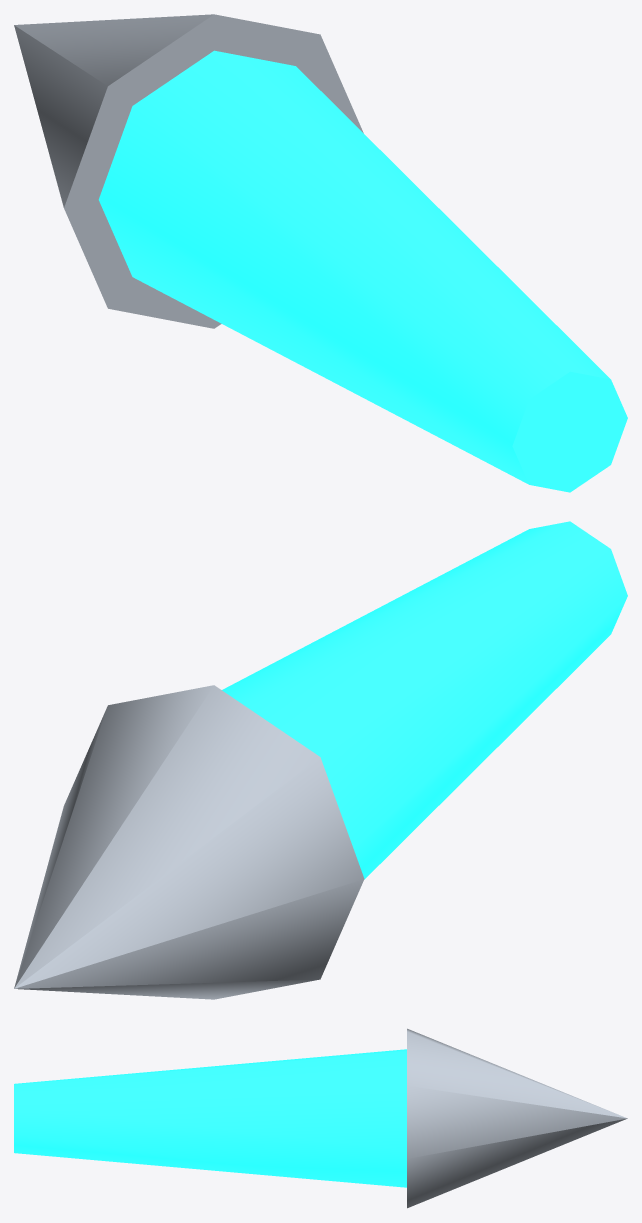
The model's file is proj_skywatch_bolt.glb.
The picture shows the model from 3 angles, top to bottom: view 1: azimuth 30°, elevation 25°; view 2: azimuth 150°, elevation 25°; view 3: azimuth 270°, elevation 25°; orthographic projection. The views are drawn at different scales.
Visible parts, largest first — view 1: proj_skywatch_bolt_core, proj_skywatch_bolt_tip; view 2: proj_skywatch_bolt_tip, proj_skywatch_bolt_core; view 3: proj_skywatch_bolt_core, proj_skywatch_bolt_tip.
Part boxes in pixels (x1,y1,x2,y2): proj_skywatch_bolt_core: (98, 50, 627, 492); proj_skywatch_bolt_tip: (14, 14, 363, 328); proj_skywatch_bolt_tip: (14, 685, 364, 999); proj_skywatch_bolt_core: (222, 521, 627, 879); proj_skywatch_bolt_core: (14, 1049, 406, 1187); proj_skywatch_bolt_tip: (407, 1028, 627, 1208).
Size of the model in its own units: 0.156 by 0.156 by 0.5.
